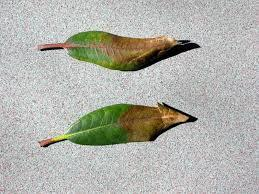root_rot: (33, 27, 209, 182)
